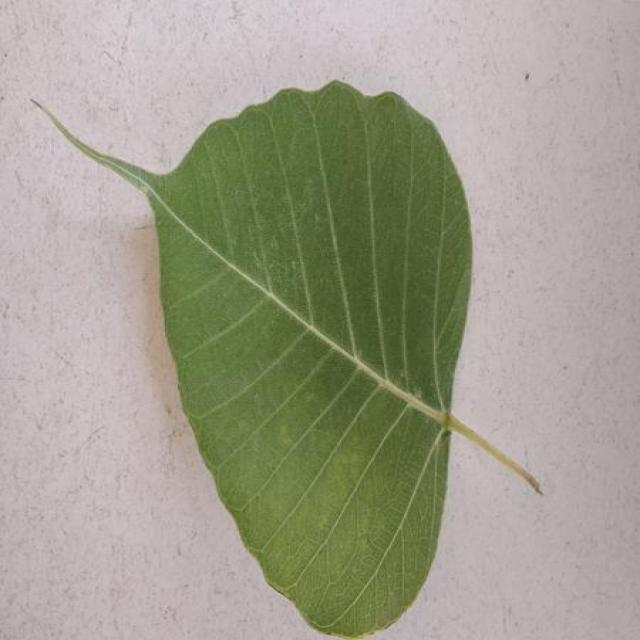arali: (44, 82, 538, 637)
